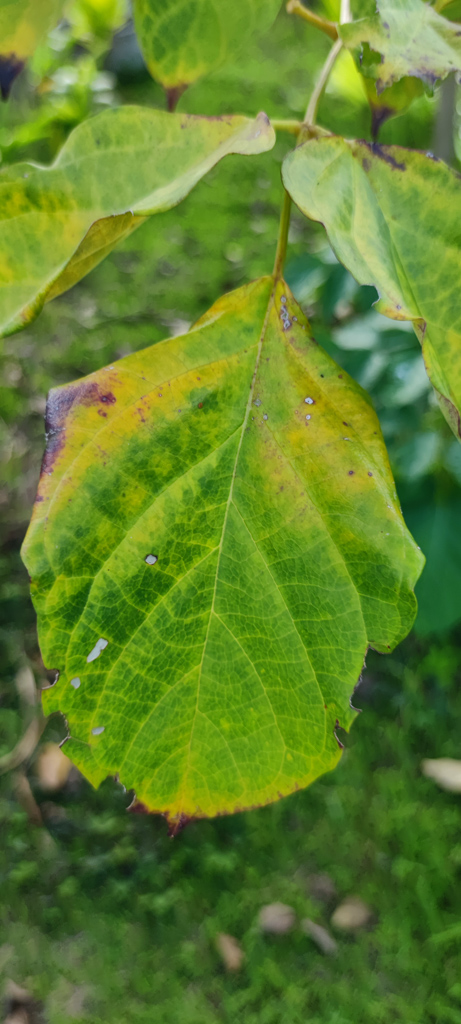Canker: (27, 354, 162, 515), (269, 295, 374, 496), (345, 84, 416, 180)
Pepper yellow leaf: (31, 272, 399, 814), (301, 138, 455, 413), (14, 124, 174, 339)
